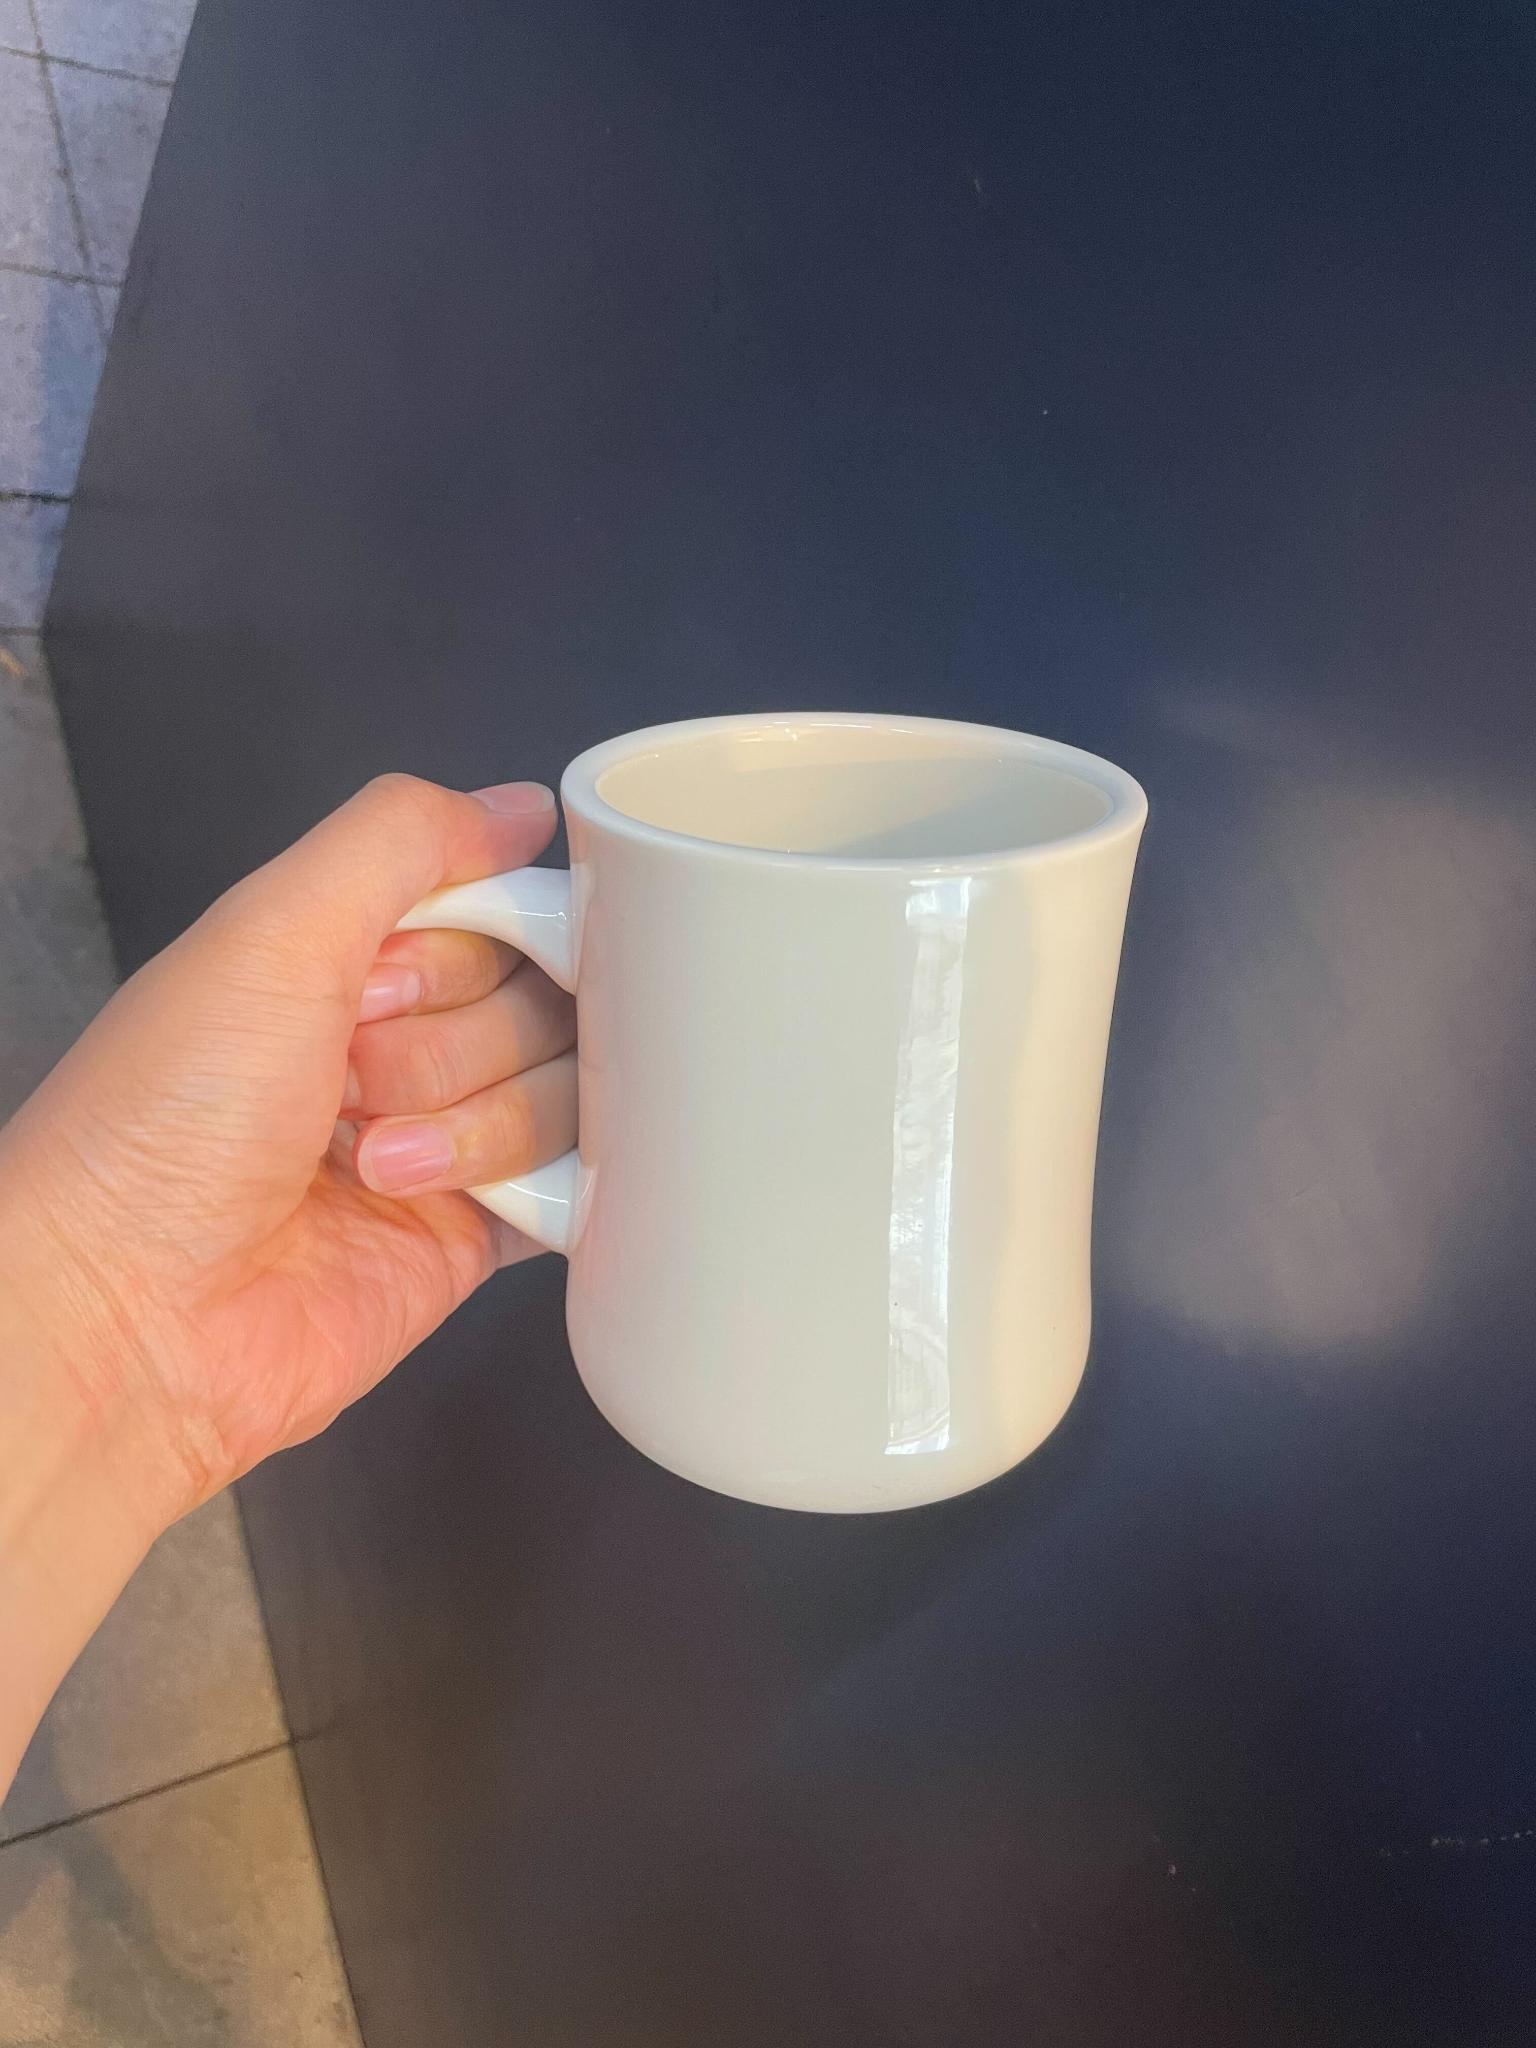cup: (10, 712, 1165, 1648)
